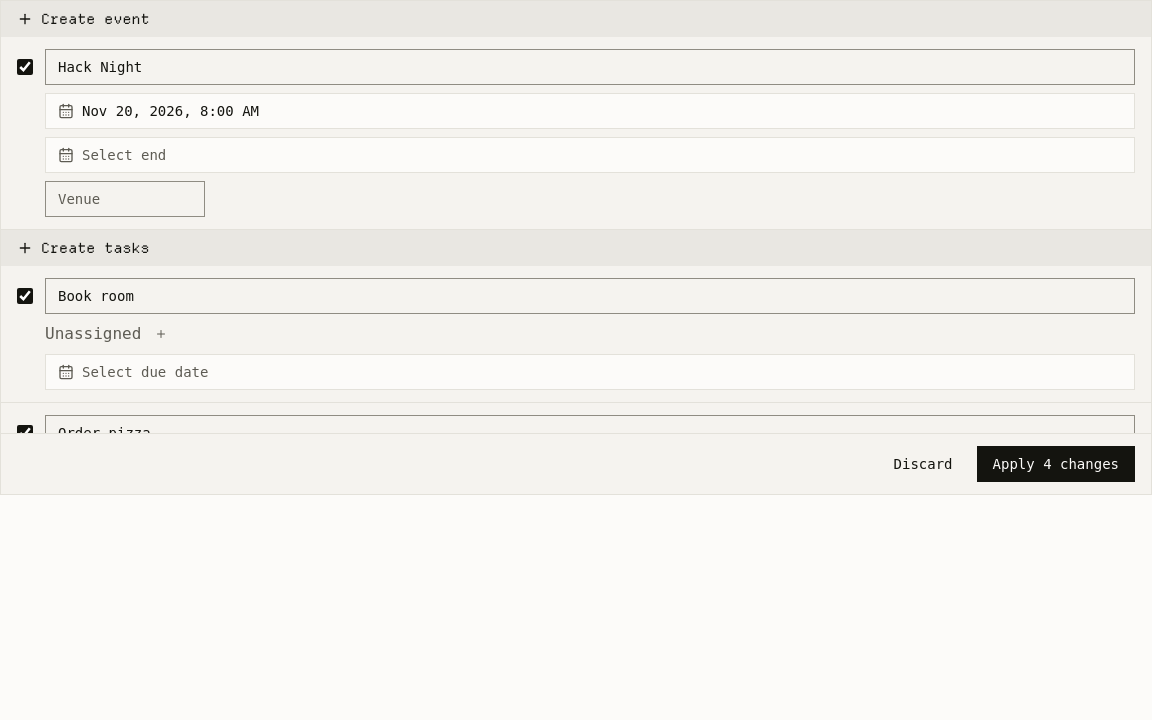
Test case: ProposalCard › disables a staged event's tasks once the event is unchecked
Click the checkbox named "Include Hack Night". click: (25, 67)
box: x1=17 y1=59 x2=33 y2=75
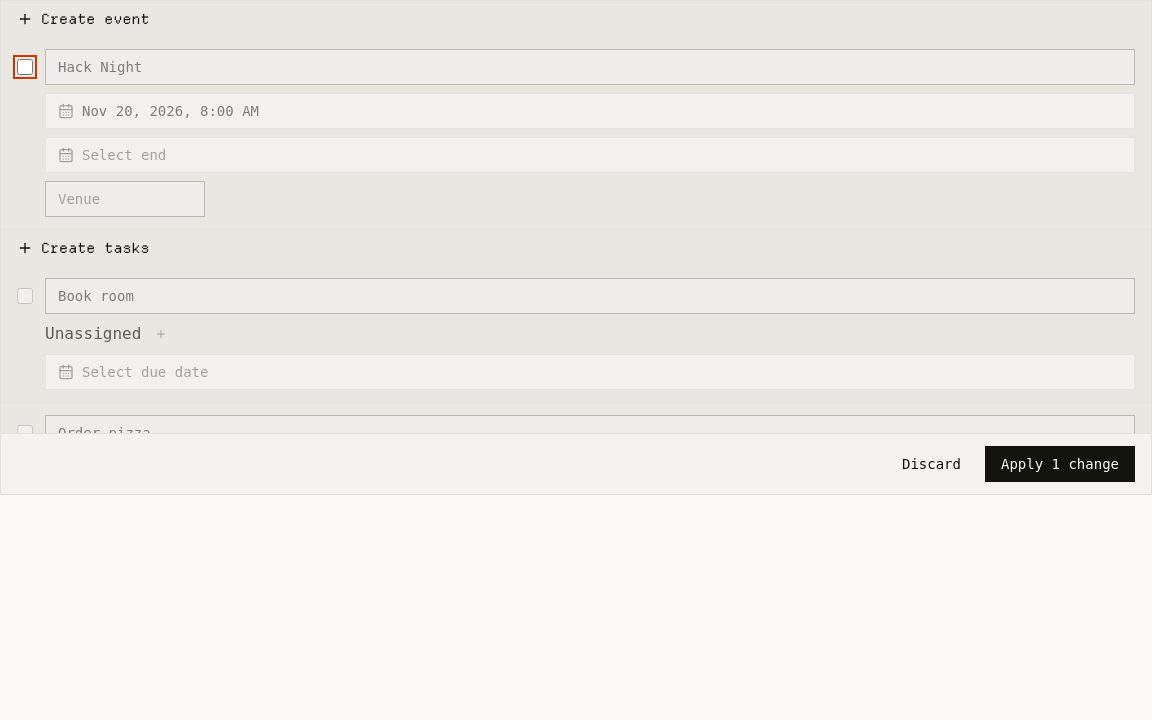
Check: the button "Apply 1 change" is shown, box x1=985 y1=446 x2=1135 y2=482
